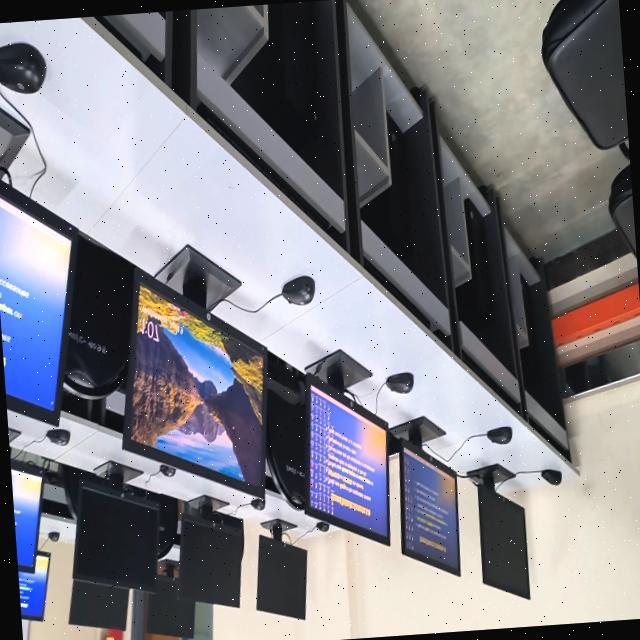Chair: (540, 0, 628, 148), (63, 235, 133, 396), (264, 352, 304, 508), (607, 163, 636, 258), (58, 462, 100, 517), (156, 493, 177, 559)
Cpu: (231, 1, 316, 153), (519, 259, 564, 426), (360, 115, 411, 262), (455, 198, 492, 333)
Monitor: (130, 285, 261, 484), (0, 180, 76, 425), (304, 375, 388, 544), (72, 463, 157, 591), (398, 419, 459, 575), (177, 494, 242, 606), (477, 484, 529, 598), (255, 518, 305, 618), (143, 561, 193, 637), (10, 468, 41, 571), (67, 578, 128, 630), (17, 550, 49, 619)
Mouse: (0, 42, 45, 92), (280, 275, 313, 304), (385, 372, 412, 392), (486, 425, 510, 443), (45, 428, 69, 445), (540, 468, 560, 484), (158, 463, 174, 476), (249, 499, 263, 510), (315, 521, 328, 531), (47, 530, 58, 540)
